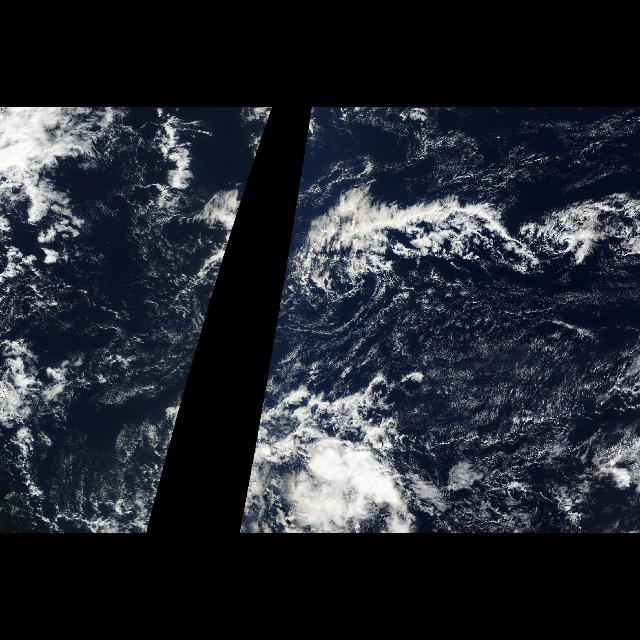Fish: (277, 182, 639, 316), (121, 112, 265, 308)
Flower: (239, 367, 433, 533)
Gravel: (396, 413, 638, 529)
Sugar: (258, 276, 640, 532), (18, 230, 226, 490), (399, 108, 631, 205)
